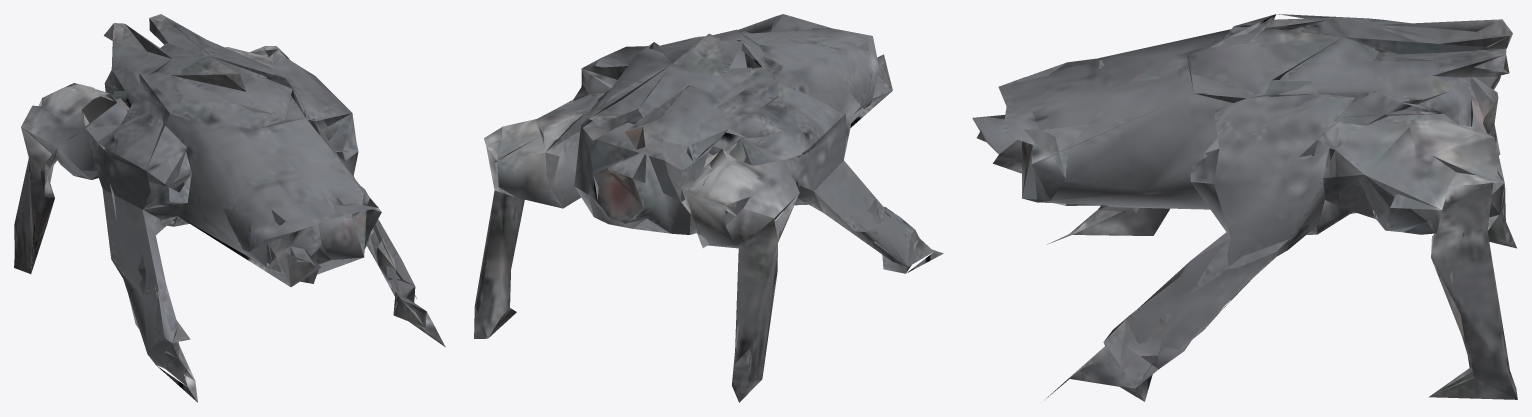
The model's file is enemy_turret_1035424432_lod0.glb.
The picture shows the model from 3 angles, left to right: view 1: azimuth 30°, elevation 25°; view 2: azimuth 150°, elevation 25°; view 3: azimuth 270°, elevation 25°; orthographic projection. The views are drawn at different scales.
Bounding box in the file's own units: 4.26 × 3.65 × 5.91.
1 material, 1 textured.
